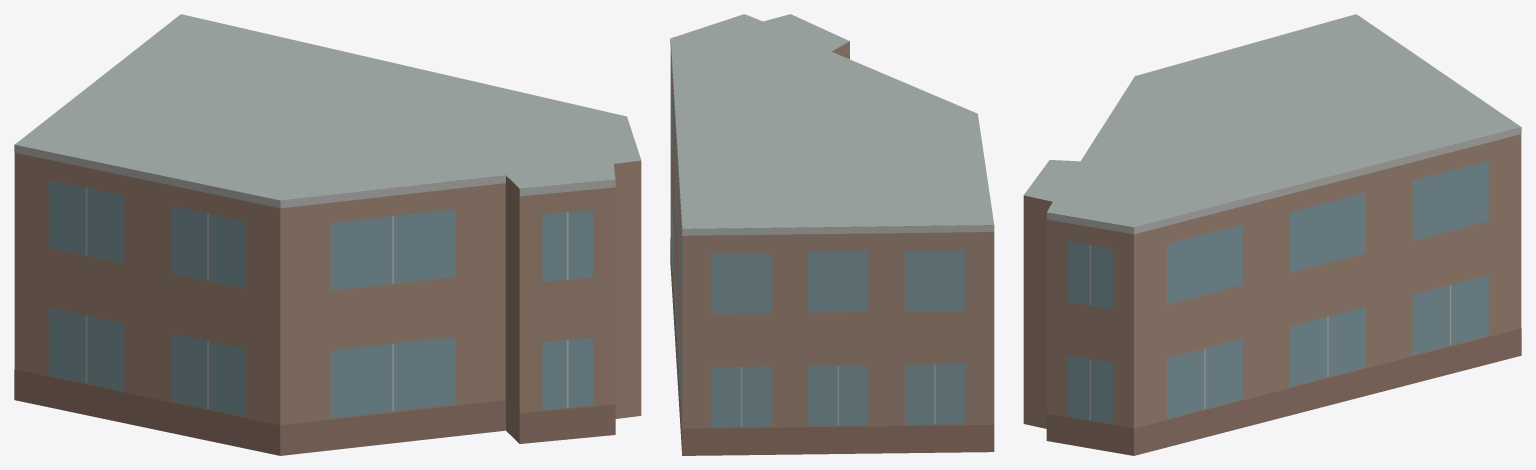
File: survey-upis-32840109.glb
The picture shows the model from 3 angles, left to right: view 1: azimuth 30°, elevation 25°; view 2: azimuth 150°, elevation 25°; view 3: azimuth 270°, elevation 25°; orthographic projection. The views are drawn at different scales.
Visible parts, largest first — view 1: survey-upis-32840109.tmp; view 2: survey-upis-32840109.tmp; view 3: survey-upis-32840109.tmp.
Part boxes in pixels (x1=…): survey-upis-32840109.tmp: x1=14, y1=14, x2=641, y2=455; survey-upis-32840109.tmp: x1=670, y1=14, x2=994, y2=455; survey-upis-32840109.tmp: x1=1023, y1=14, x2=1521, y2=455.
Bounding box in the file's own units: 15.92 × 7.95 × 15.71.
